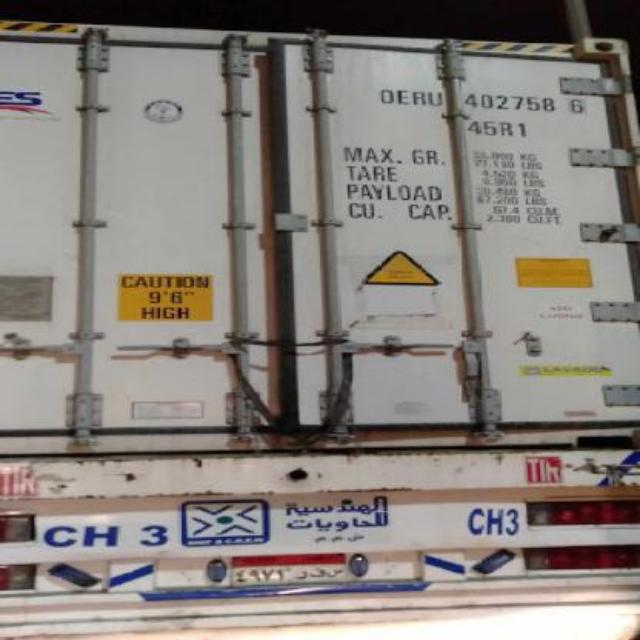0: (481, 93, 494, 111)
2: (496, 94, 509, 110)
4: (468, 92, 478, 108)
5: (524, 96, 540, 112)
6: (566, 97, 582, 115)
7: (508, 94, 528, 110)
8: (544, 98, 554, 112)
E: (396, 90, 409, 104)
O: (376, 88, 394, 102)
R: (410, 90, 426, 106)
U: (424, 89, 448, 109)
